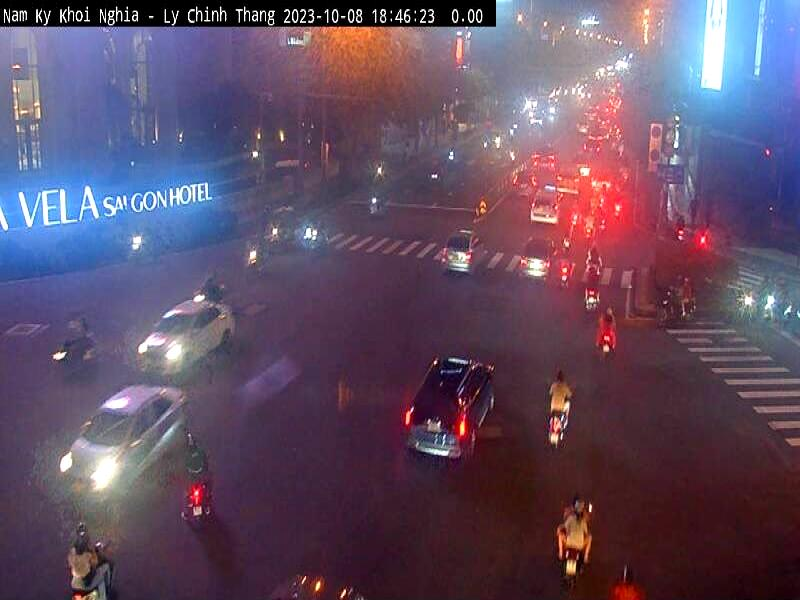car: (56, 380, 190, 522), (400, 346, 501, 462), (134, 296, 238, 382), (438, 226, 487, 276), (518, 232, 558, 286), (529, 186, 563, 228)
motorcycle: (71, 544, 123, 600), (182, 488, 217, 534), (556, 540, 586, 589), (545, 404, 571, 450), (598, 335, 618, 368), (582, 285, 602, 315), (557, 265, 572, 291)
